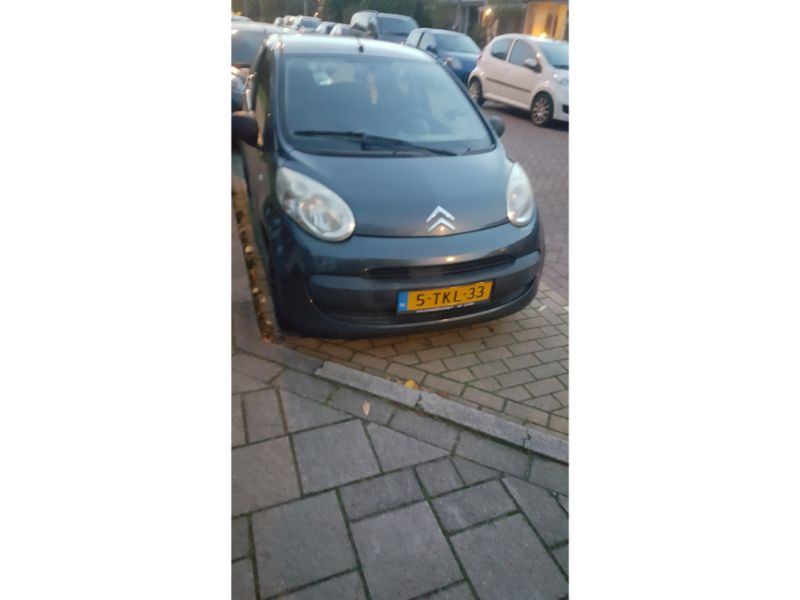kenteken: (399, 281, 499, 313)
